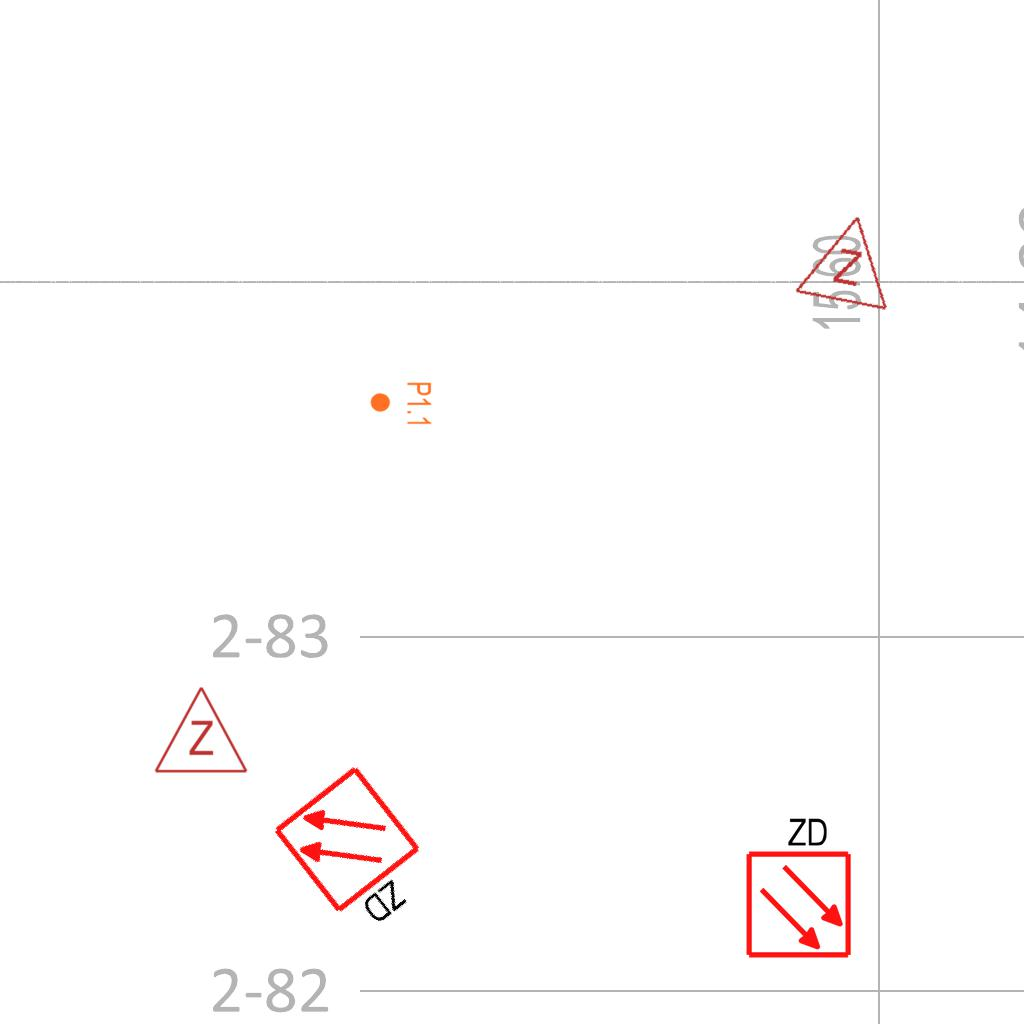Downlight_LED_Einbauleuchten_Flur: (369, 381, 433, 427)
ZD_Melder_in_Zwischendecke_mit_Revisionsoeffnung_mind_40_x_40_cm: (269, 759, 451, 948), (740, 811, 854, 960)
Zimmersignalleuchte: (790, 200, 906, 318), (151, 680, 249, 780)
